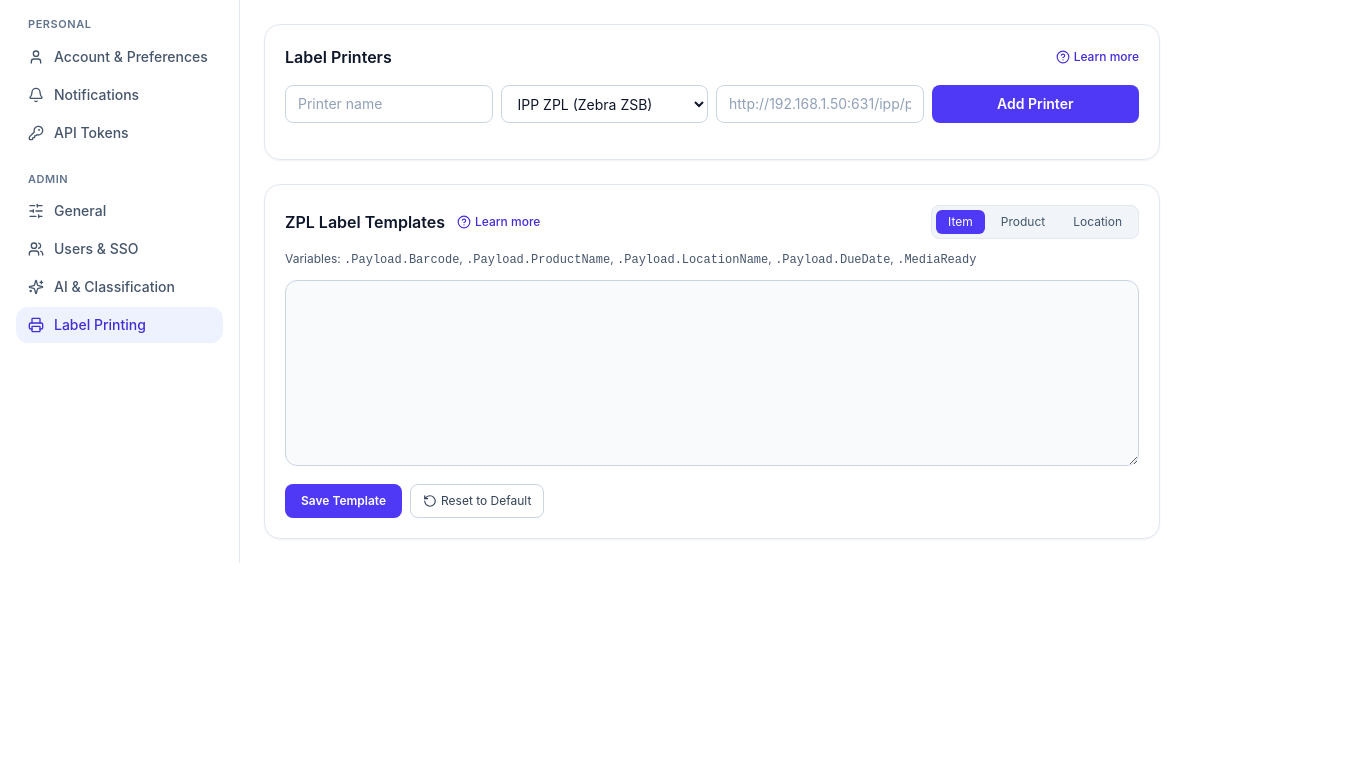
In-app Help and Contextual Help › opens contextual Help from a Settings card without discarding unsaved input
Type unsaved input in Printer name field
Type "Kitchen Zebra" into the field with placeholder "Printer name" at (389, 104), box [285, 85, 492, 123]
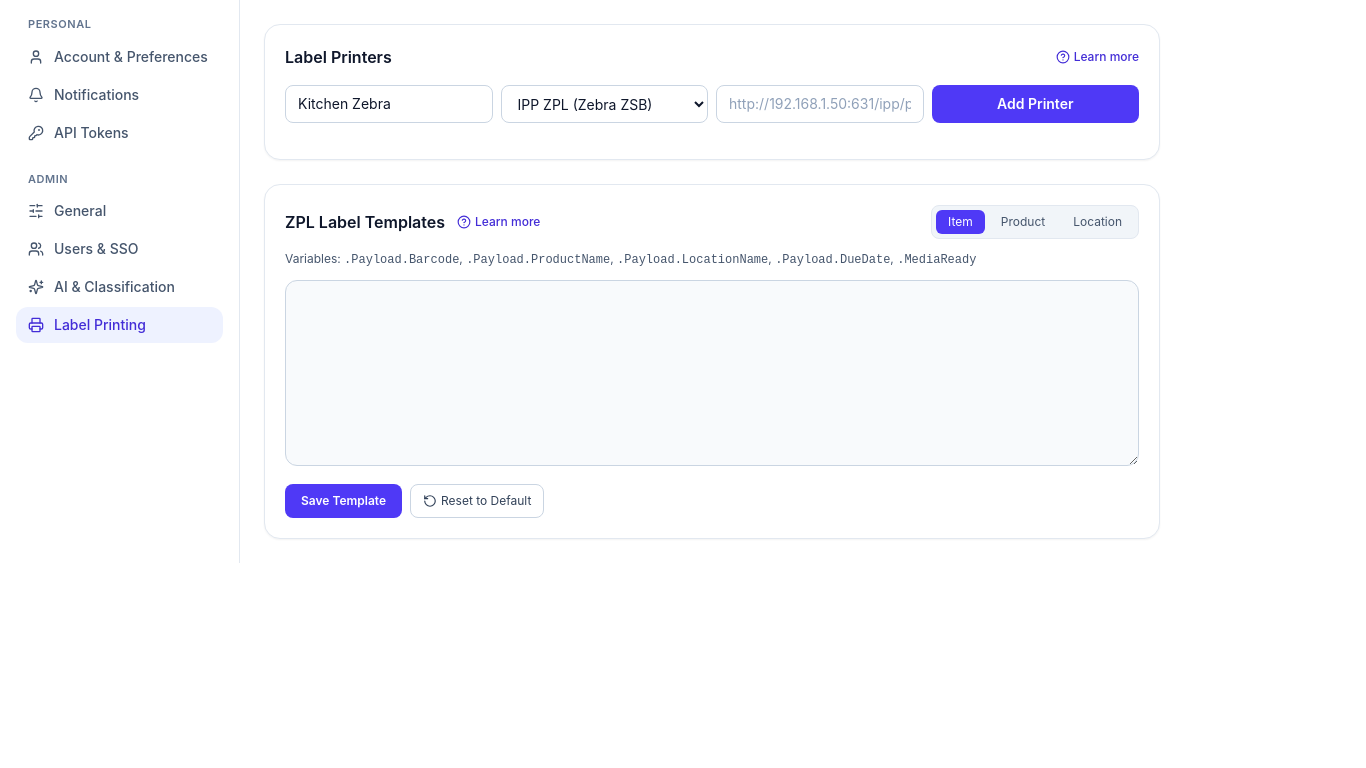
Click the button "Learn more" in the row of "Label Printers" at (1097, 57), box [1056, 49, 1139, 65]
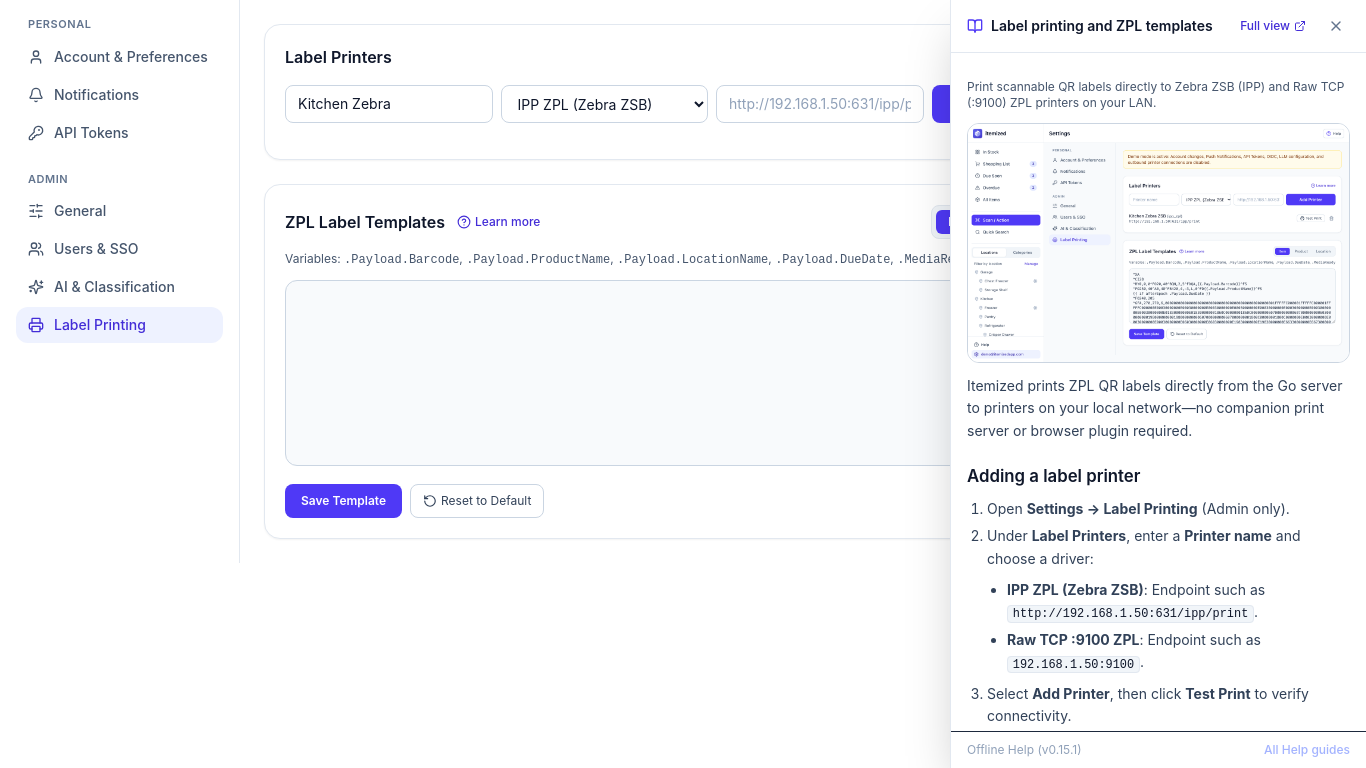
Expected: the element with test id "contextual-help-drawer" shows "Label printing and ZPL templates", [991, 17, 1213, 34]
Close contextual help and confirm unsaved input is preserved
Click the button named "Close contextual help" at (1336, 26), box [1322, 12, 1350, 40]
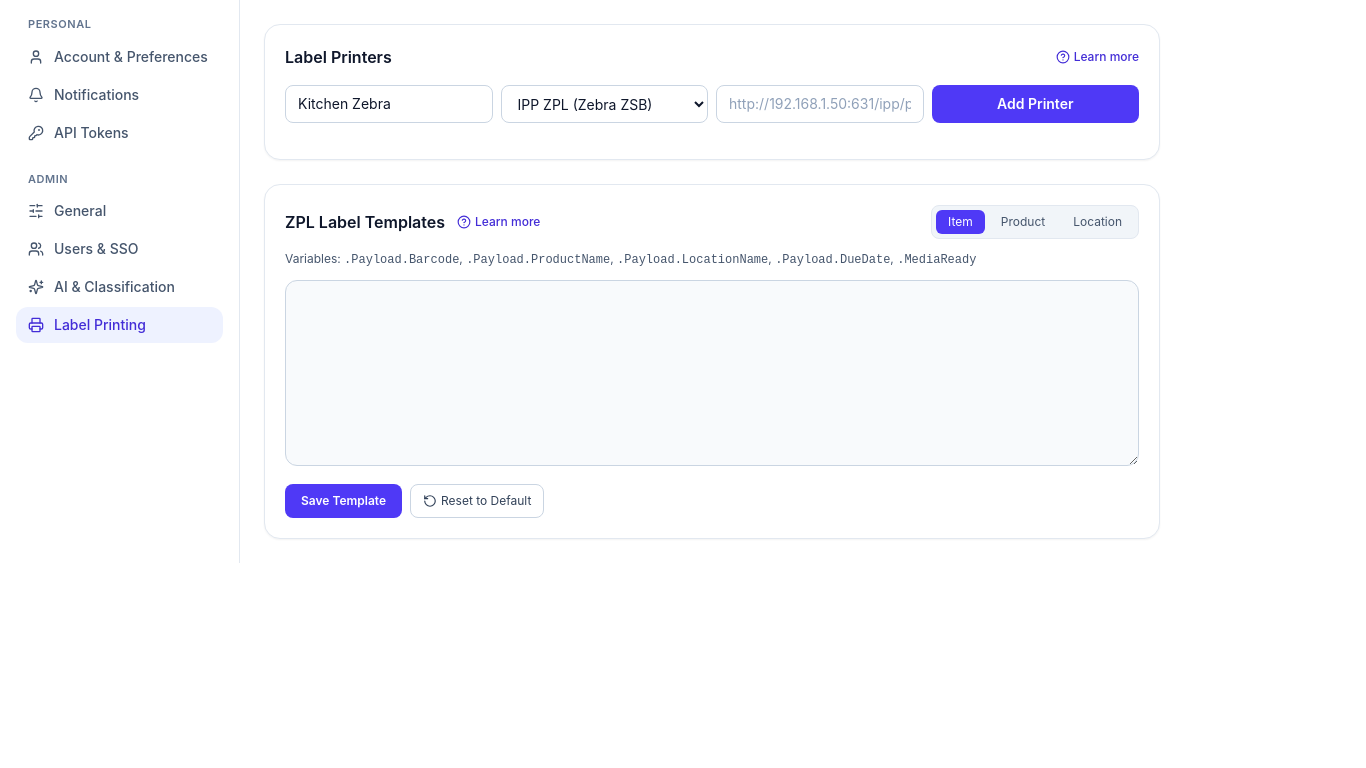
Expected: the element with test id "contextual-help-drawer" is gone
